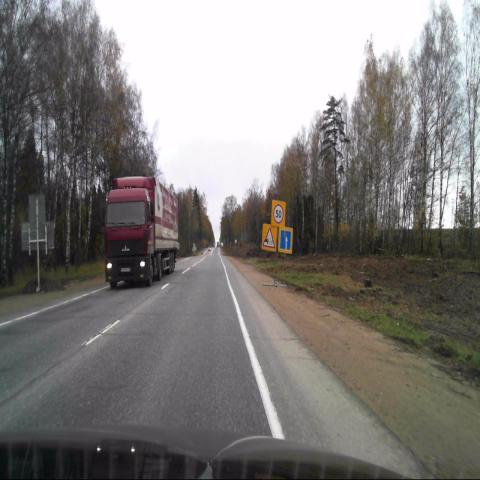1_18: (262, 224, 276, 253)
2_7: (278, 228, 292, 254)
